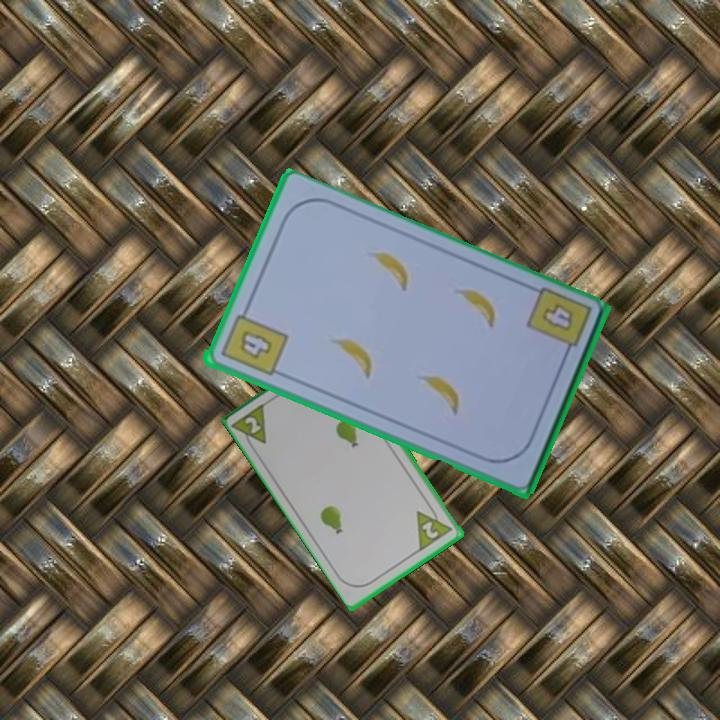2p: (413, 500, 456, 554), (241, 413, 265, 437)
4b: (216, 302, 290, 379), (538, 300, 576, 335)
